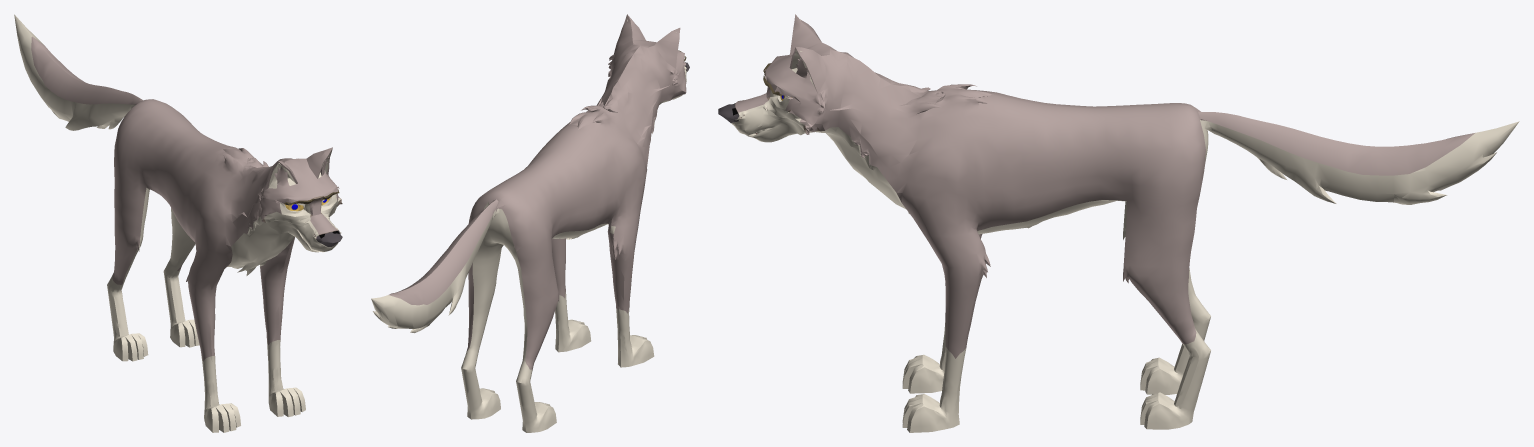
File: Wolf.glb
The picture shows the model from 3 angles, left to right: view 1: azimuth 30°, elevation 25°; view 2: azimuth 150°, elevation 25°; view 3: azimuth 270°, elevation 25°; orthographic projection. The views are drawn at different scales.
Parts seen in each view (by area): view 1: aleu.001; view 2: aleu.001; view 3: aleu.001.
Boxes of the visible parts, <box> form: aleu.001: <box>14,14,342,432</box>; aleu.001: <box>371,14,689,432</box>; aleu.001: <box>718,14,1519,432</box>.
Size of the model in its own units: 1.36 by 4.21 by 8.15.
